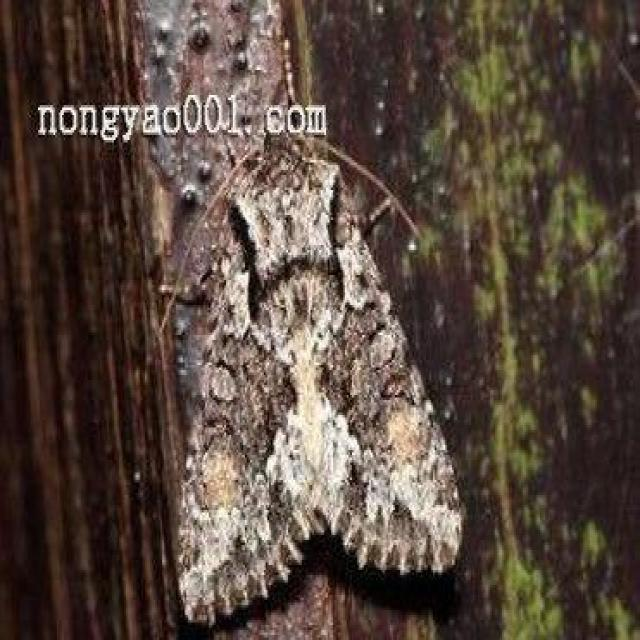armyworm: (172, 103, 456, 612)
